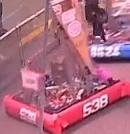red_number: (80, 92, 110, 120)
